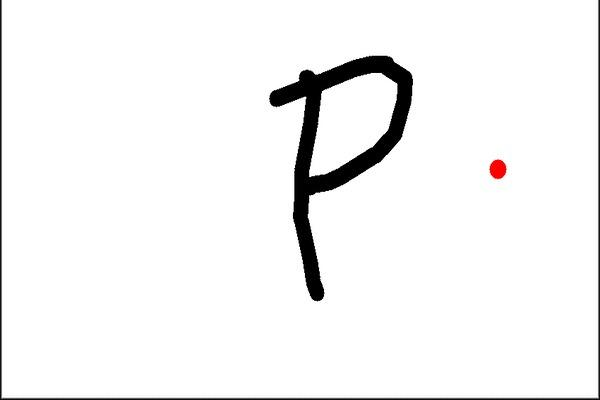P: (249, 42, 423, 307)
